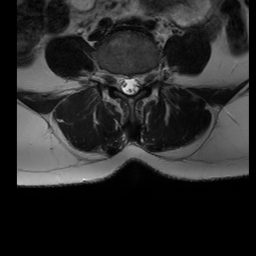CCS_normal: (125, 67, 133, 102)
LFS_normal: (141, 59, 149, 91)
LLS_normal: (133, 66, 141, 98)
RFS_normal: (110, 64, 118, 92)
RLS_normal: (118, 66, 125, 98)
